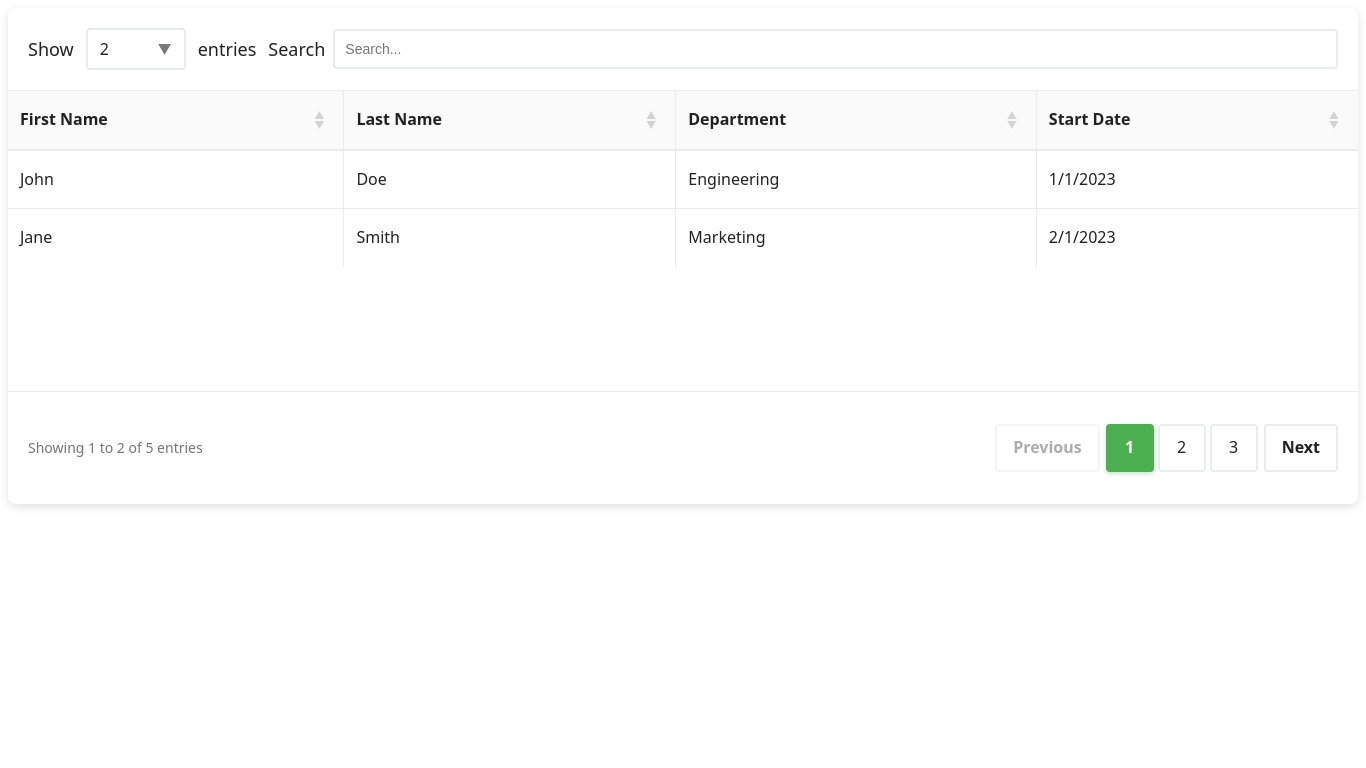
Test: DataTable Component › changes items per page when dropdown changes
Click the button with test id "page-size-trigger": (136, 49) [86,28,186,70]
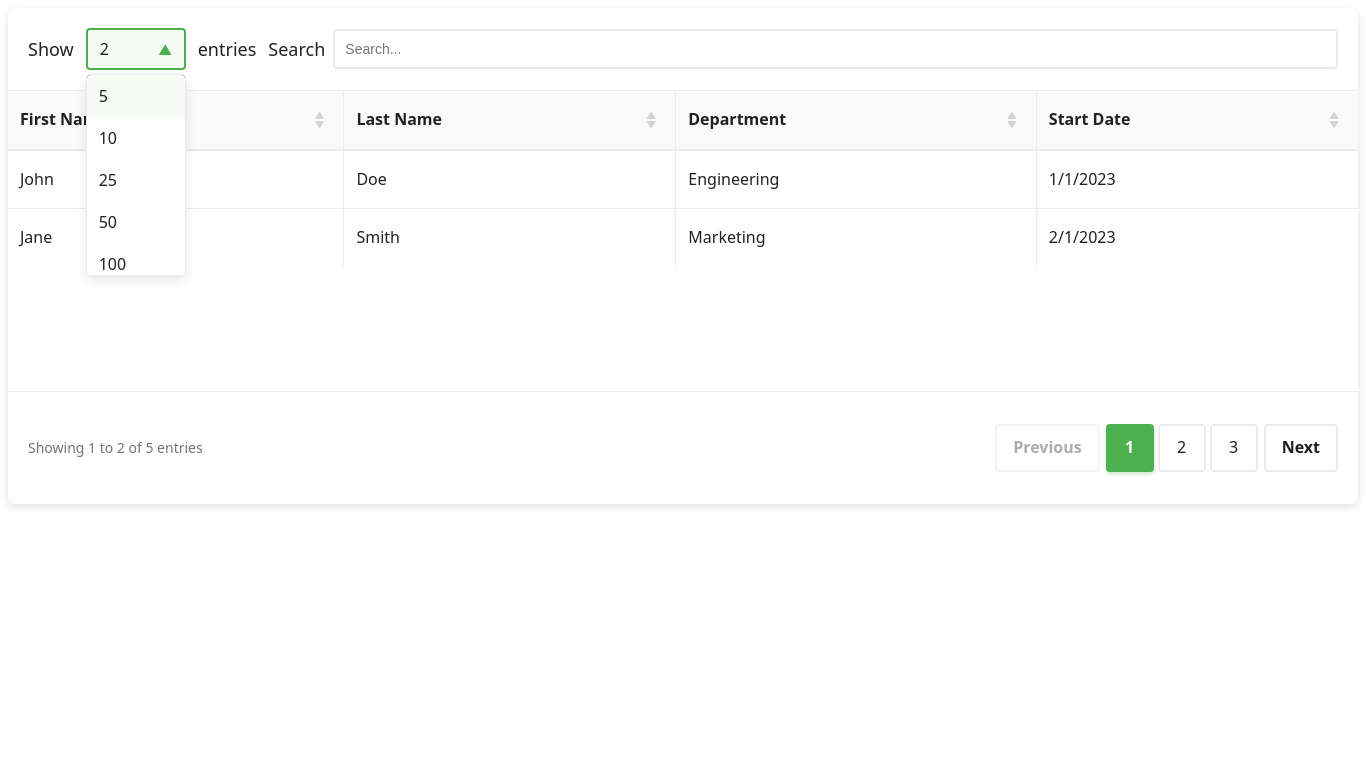
Click the option with test id "page-size-option-25": (136, 180) [87,159,185,201]
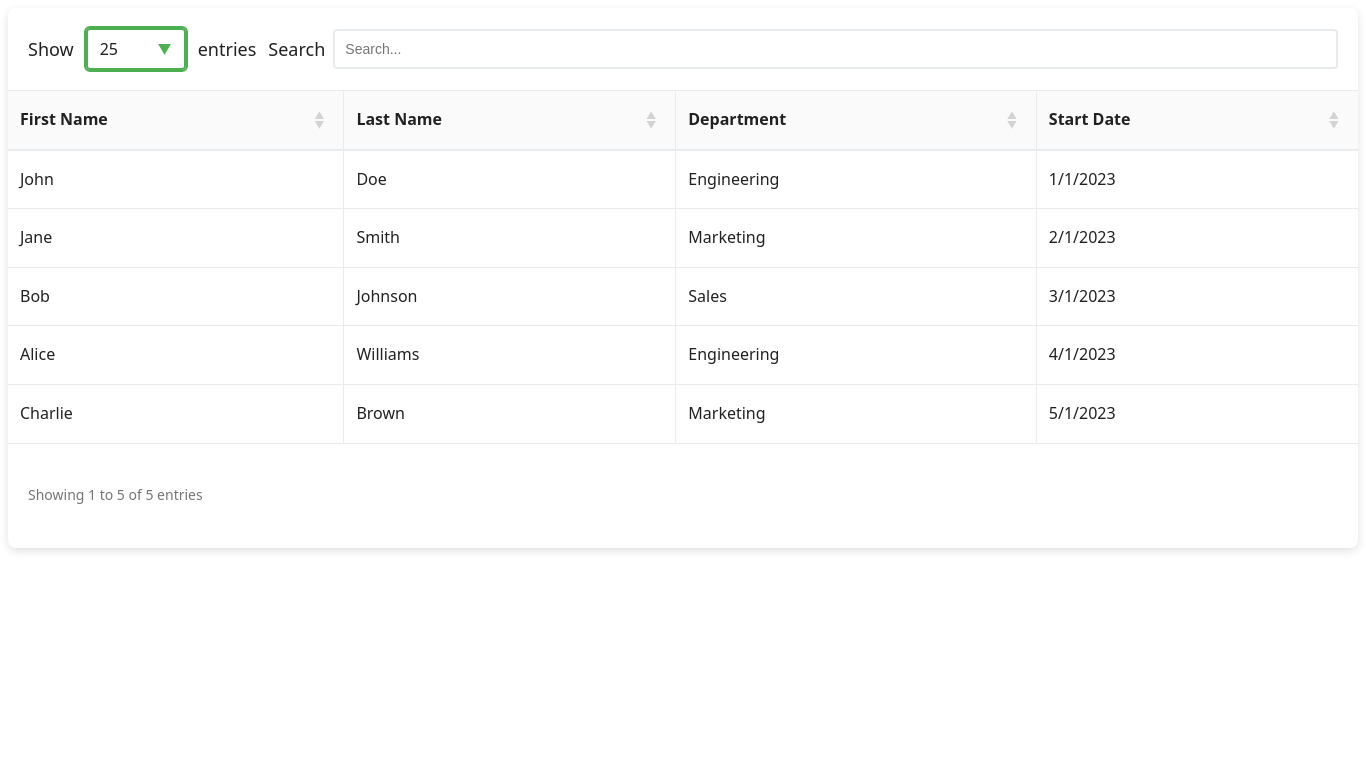
Check: the text "Bob" is shown, box [8,267,344,326]
Check: the text "Alice" is shown, box [8,326,344,384]
Check: the text "Charlie" is shown, box [8,384,344,443]
